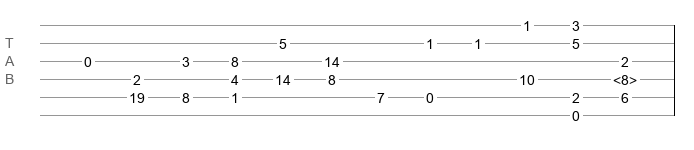0: (84, 54, 92, 64), (426, 90, 434, 100), (572, 108, 580, 118)
1: (231, 90, 239, 100), (426, 36, 434, 46), (474, 36, 482, 46), (523, 18, 531, 28)
10: (519, 72, 535, 82)
14: (275, 72, 291, 82), (324, 54, 340, 64)
19: (129, 90, 145, 100)
2: (133, 72, 141, 82), (572, 90, 580, 100), (621, 54, 629, 64)
3: (182, 54, 190, 64), (572, 18, 580, 28)
4: (231, 72, 239, 82)
5: (279, 36, 287, 46), (572, 36, 580, 46)
6: (621, 90, 629, 100)
7: (377, 90, 385, 100)
8: (182, 90, 190, 100), (231, 54, 239, 64), (328, 72, 336, 82)
harmonic: (613, 72, 637, 82)
